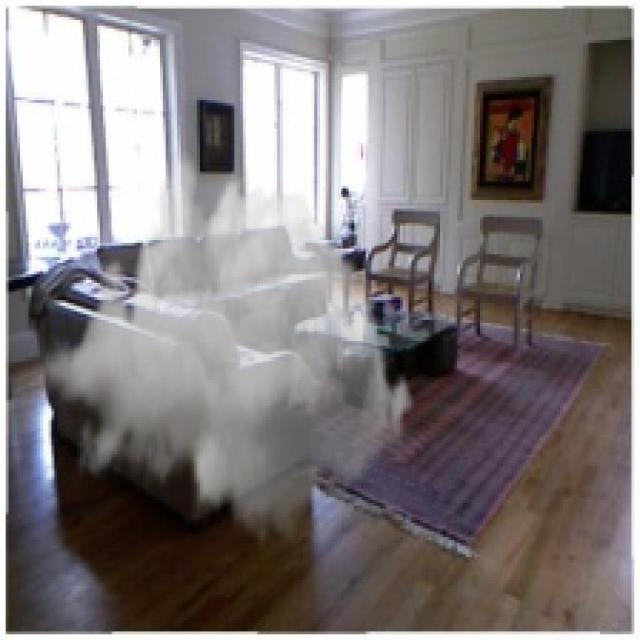Smoke: (40, 146, 417, 552)
